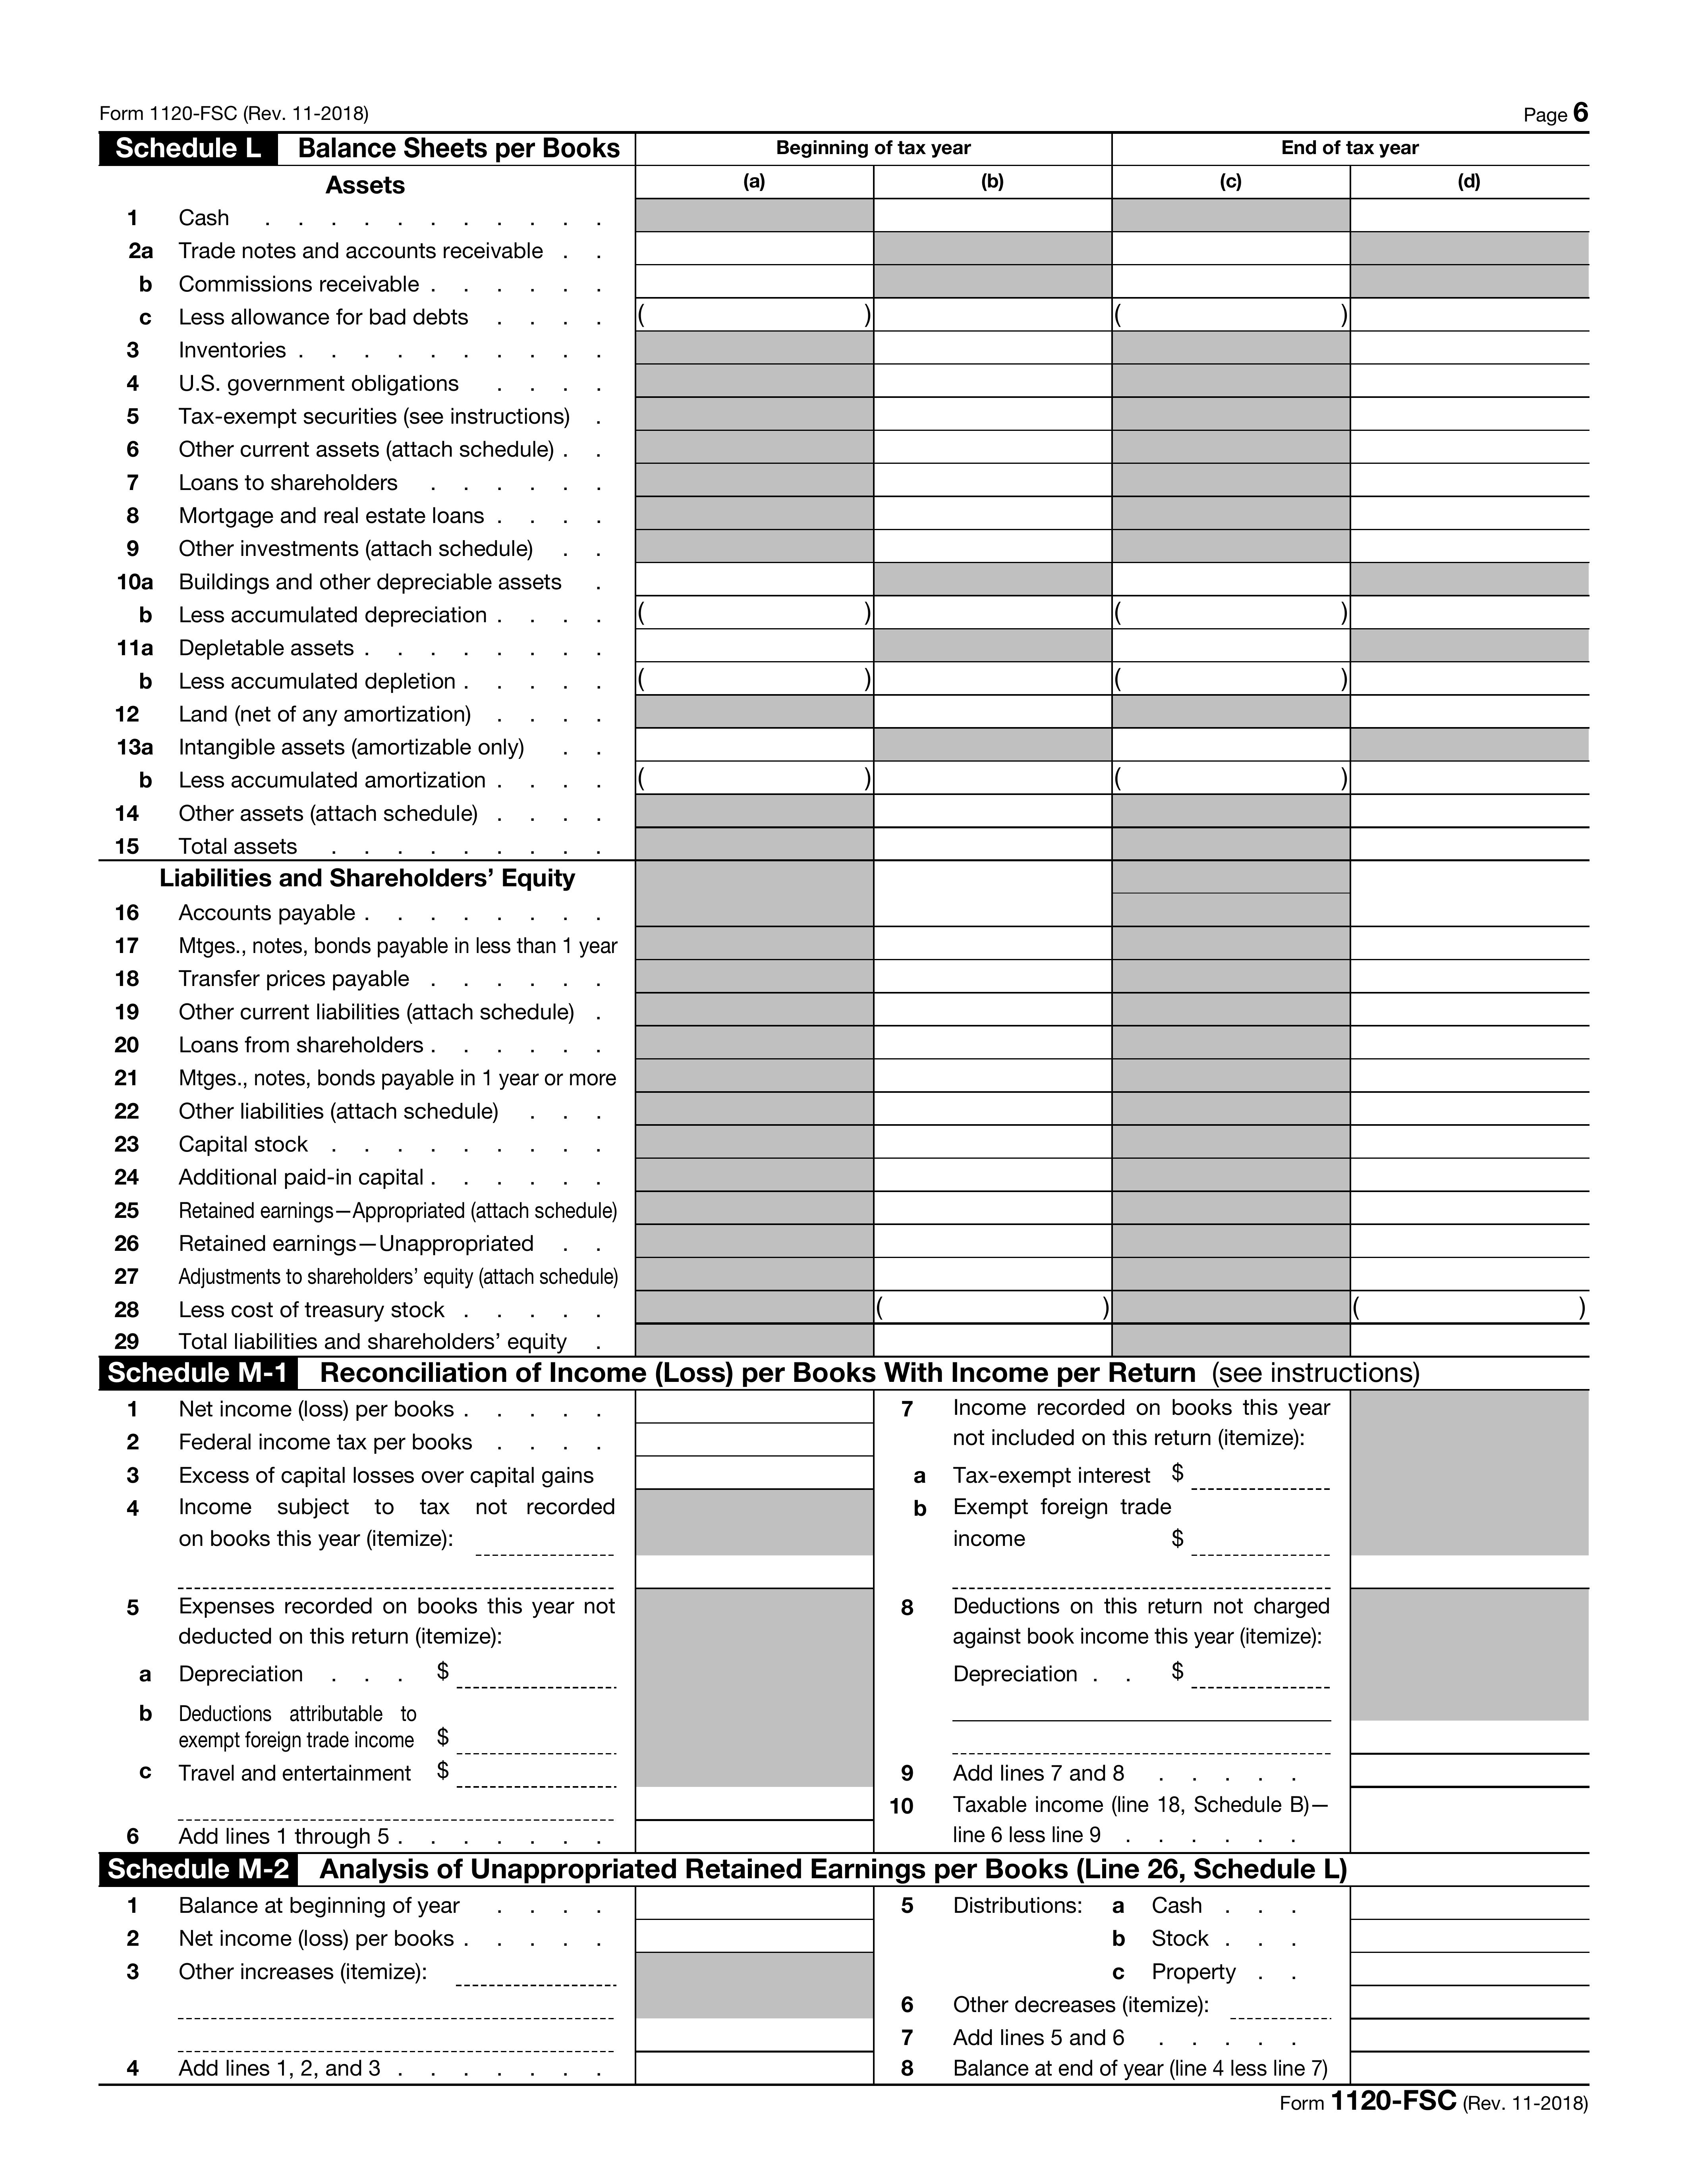table: (96, 128, 1610, 1361), (98, 1388, 883, 1851), (885, 1388, 1605, 1860), (90, 1891, 883, 2090), (885, 1888, 1610, 2090)
